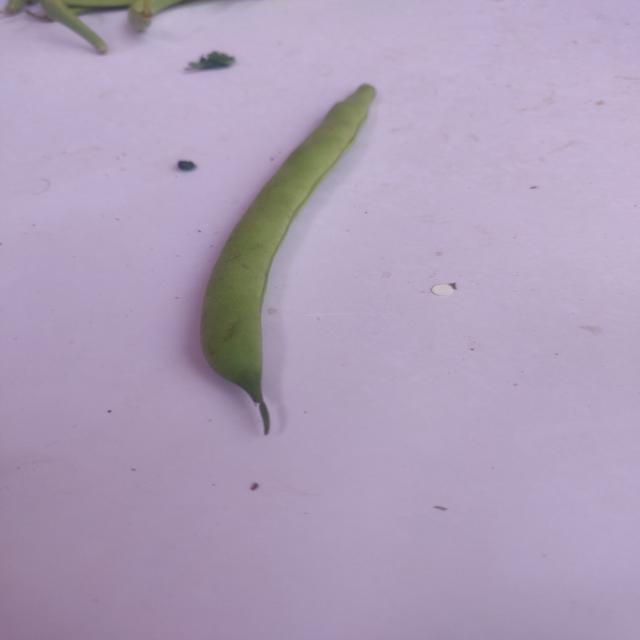Beans: (182, 74, 417, 460)
